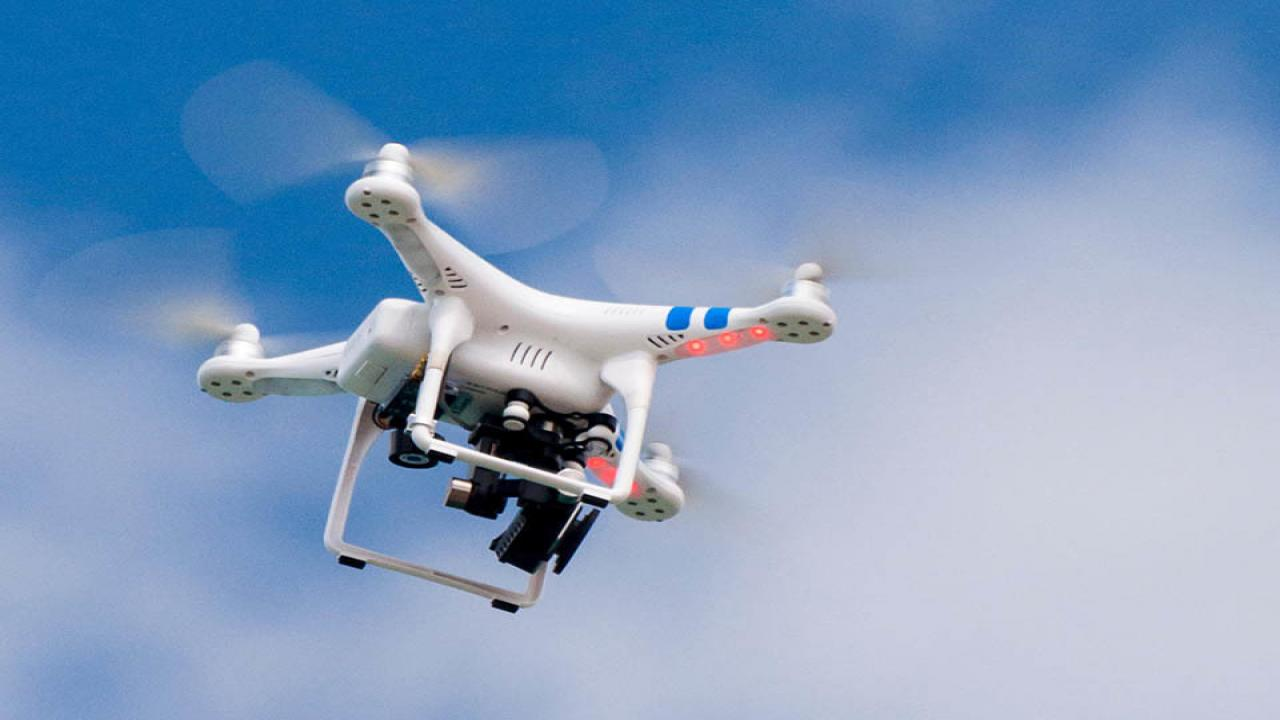Drone: (29, 50, 964, 623)
